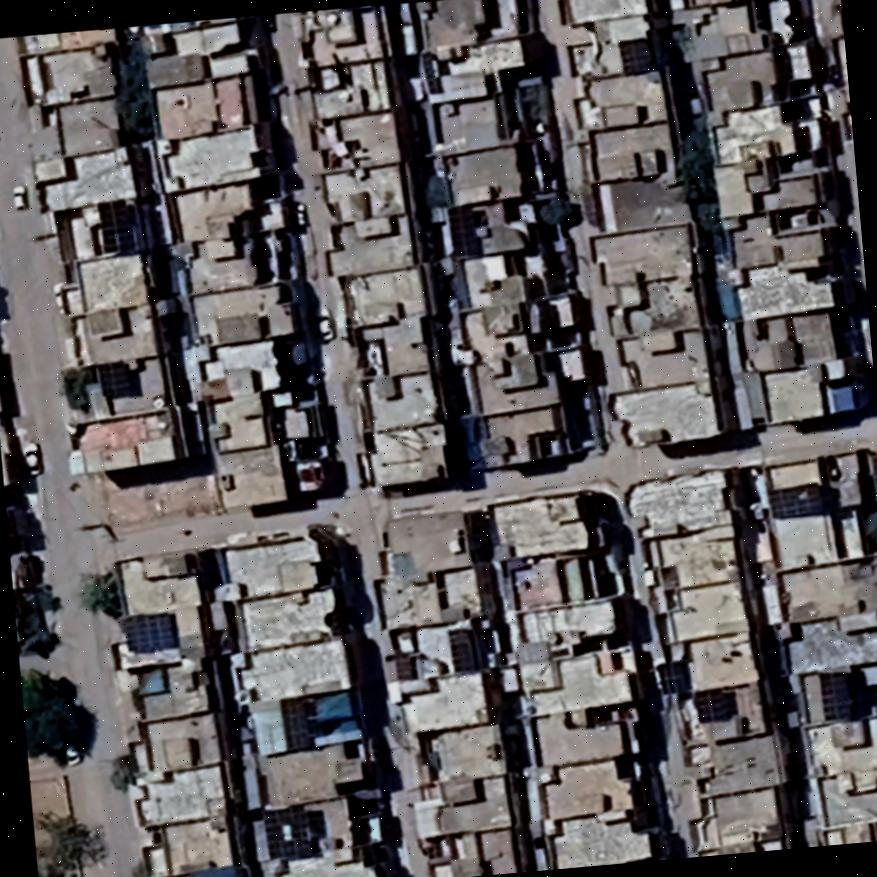Solarpanel: (115, 608, 181, 657), (261, 803, 314, 863), (765, 476, 831, 523), (97, 192, 142, 255), (816, 668, 860, 725), (443, 201, 484, 260), (278, 693, 315, 754), (614, 32, 658, 78), (690, 682, 735, 724), (651, 656, 692, 698), (445, 625, 478, 677), (96, 360, 136, 401)
